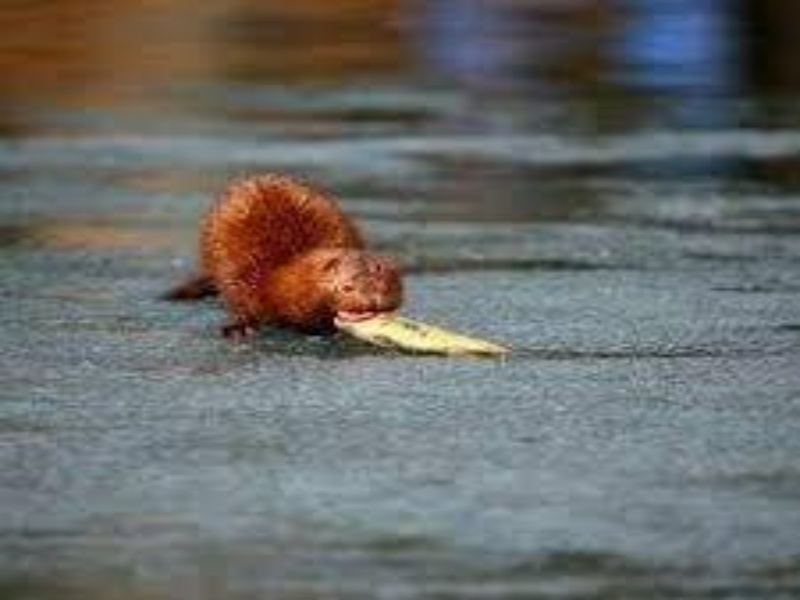minkish: (152, 172, 405, 355)
